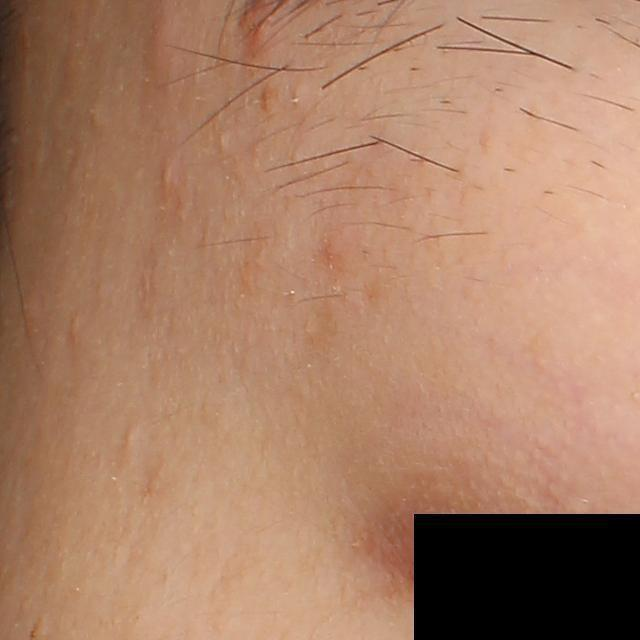comedo: (123, 423, 140, 450)
papule: (241, 2, 271, 47), (155, 161, 175, 190)
